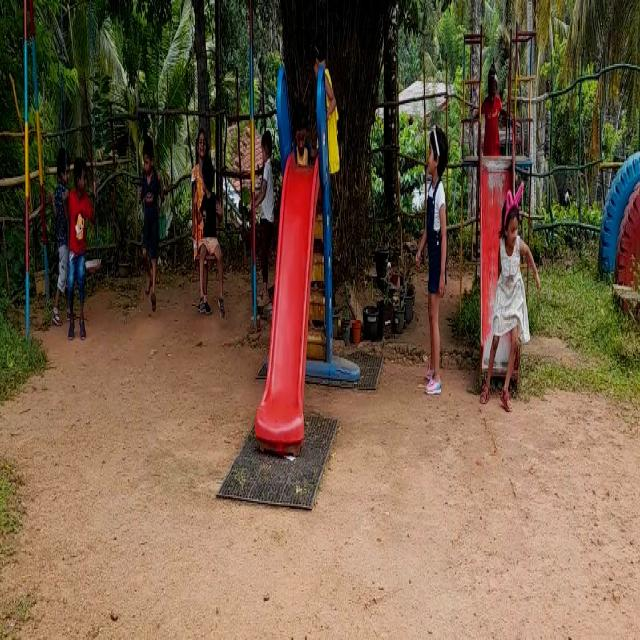child: (485, 188, 536, 399), (486, 183, 534, 395), (417, 115, 450, 414), (252, 123, 281, 314), (66, 139, 92, 345), (200, 162, 220, 316), (142, 120, 159, 297), (482, 40, 506, 155)
